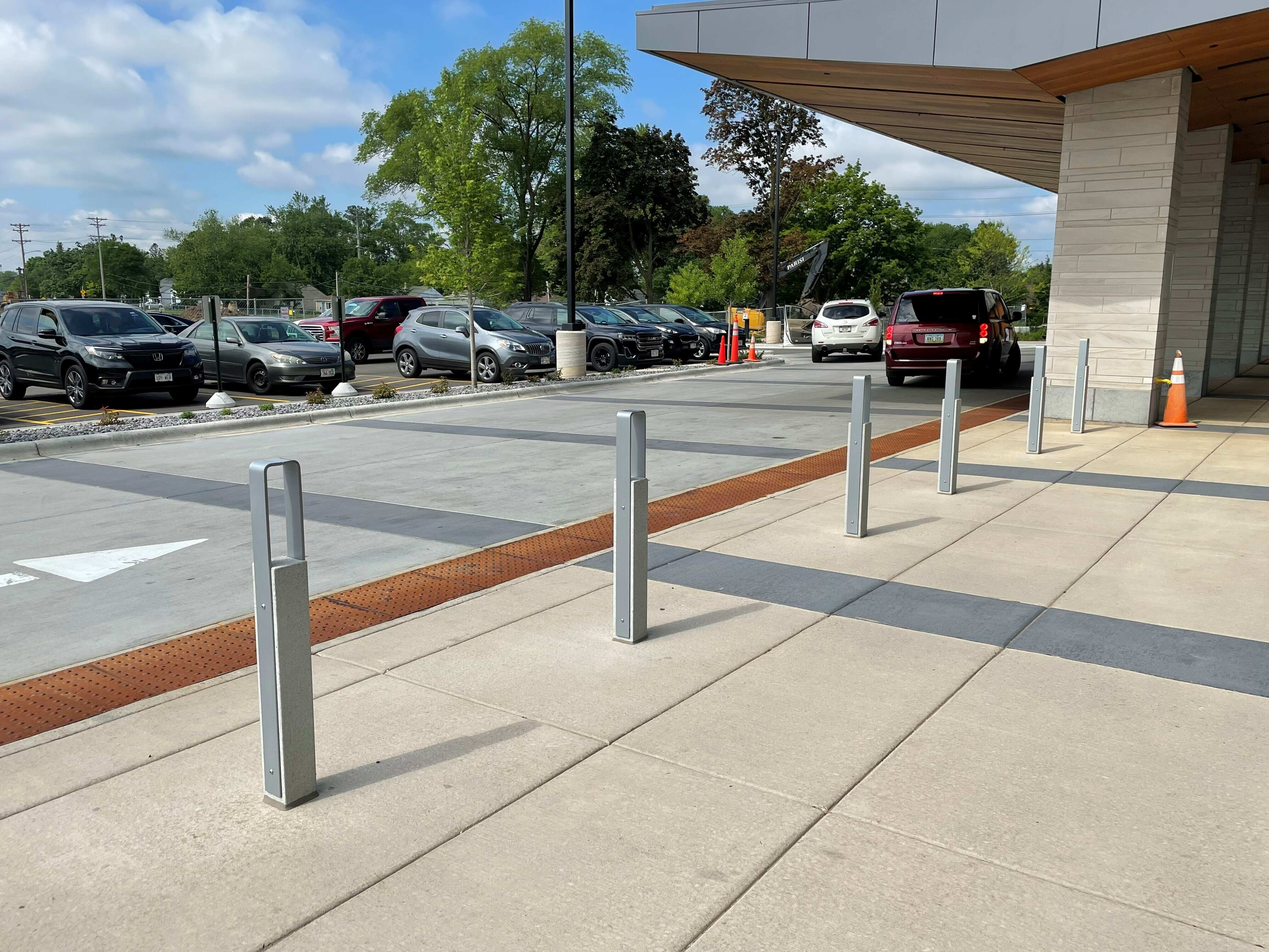Car: (1, 304, 194, 402), (882, 288, 1026, 392), (174, 309, 352, 387), (803, 291, 878, 351)
Tree: (469, 51, 565, 295)
